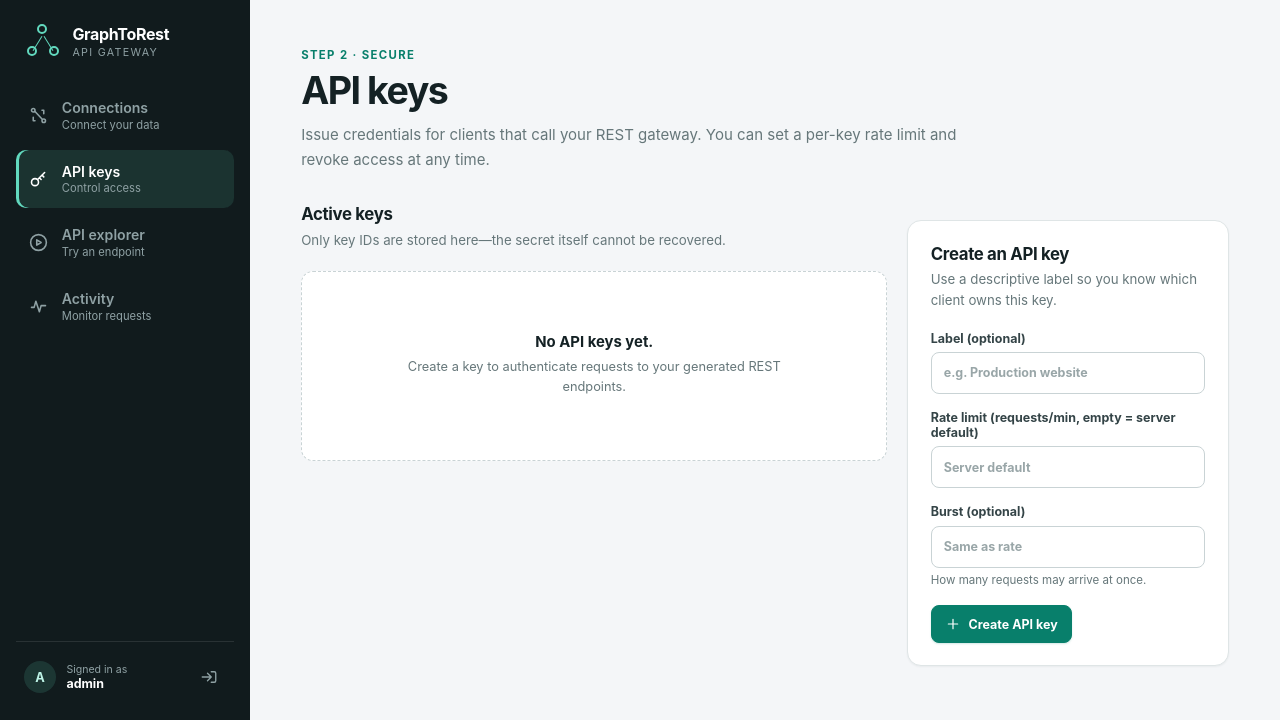
API keys page › creates a key with a rate limit
Expected: the text "No API keys yet." is shown, [535,333,653,351]
Type "30" into the number field labelled "Rate limit (requests/min, empty = server default)" at (1068, 467), box [931,446,1206,488]
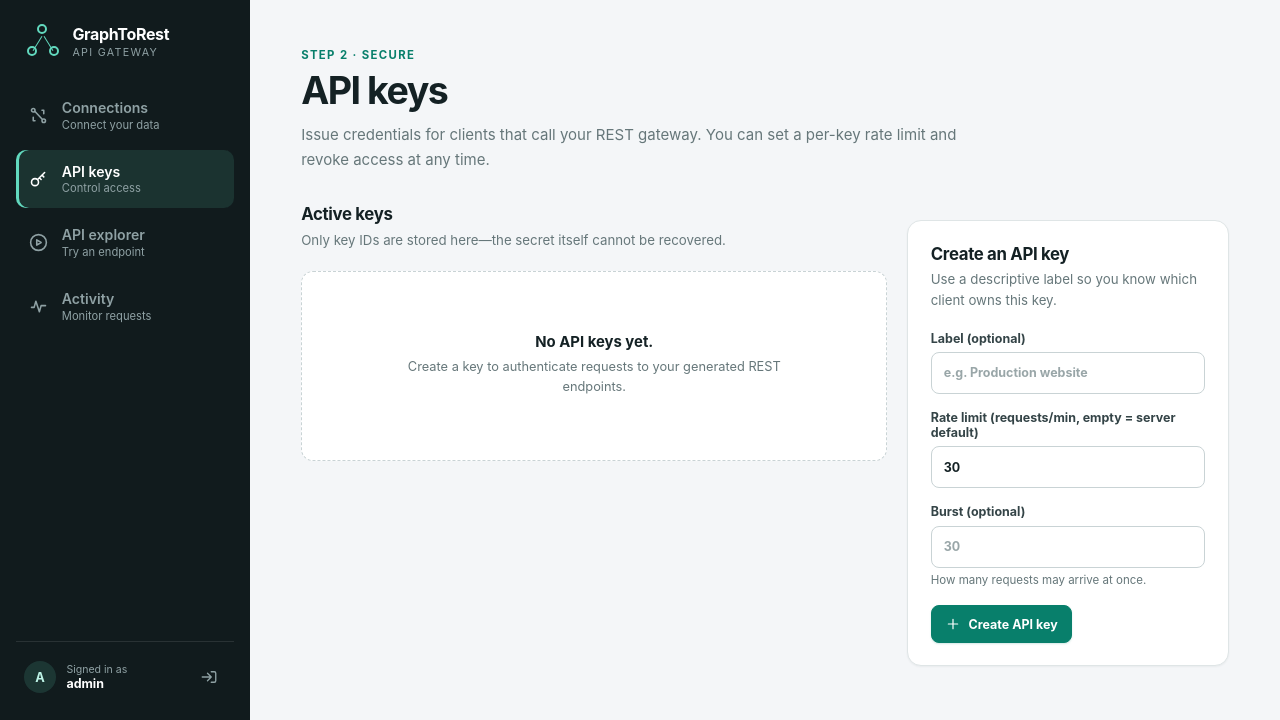
Click the button "Create API key" at (1002, 624), box [931,605,1072,643]
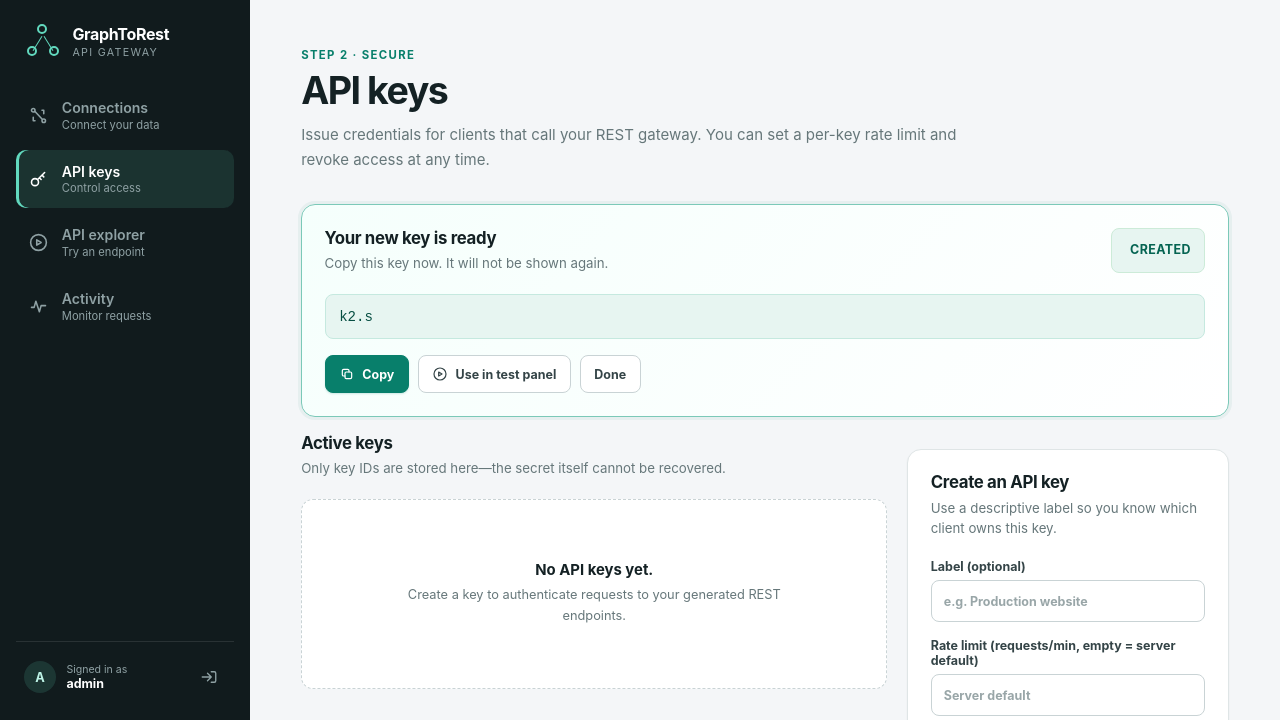
Now the text "k2.s" is shown, box [325,294,1205,339]
